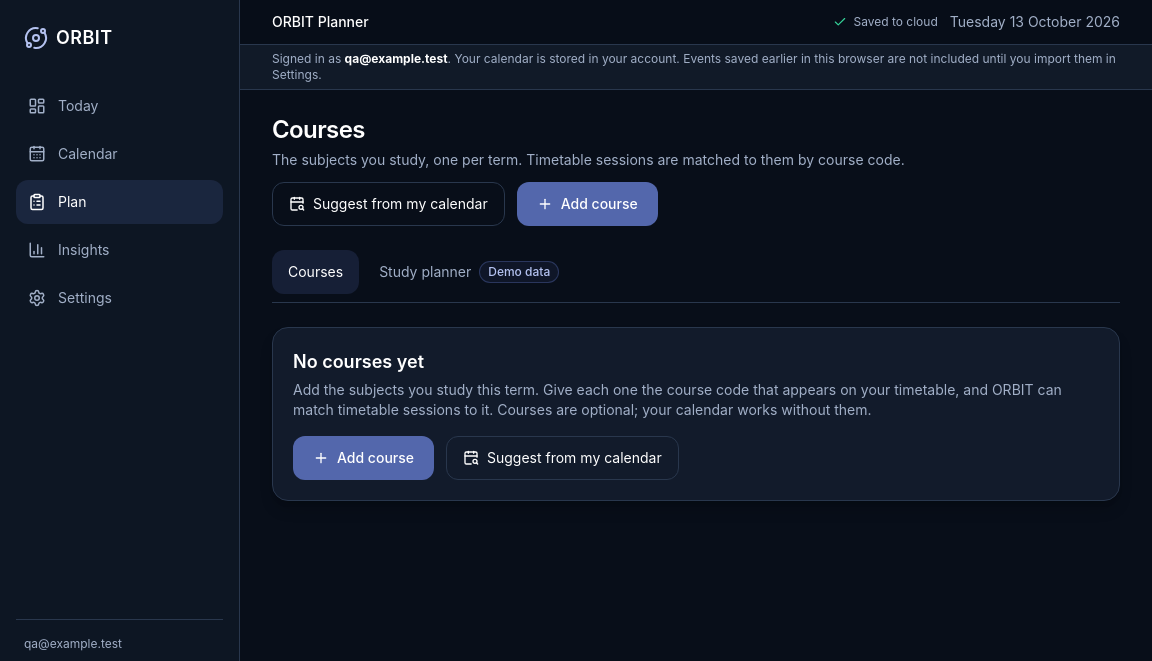
Test: suggest from my calendar › an unclear network outcome keeps the candidate, never claims success, and is recognised once the server shows it
expect the heading "Courses" is shown: met, box [272, 115, 365, 144]
Click the 1st button "Suggest from my calendar".
click(388, 204)  # box [272, 182, 505, 226]
(page scrolled)
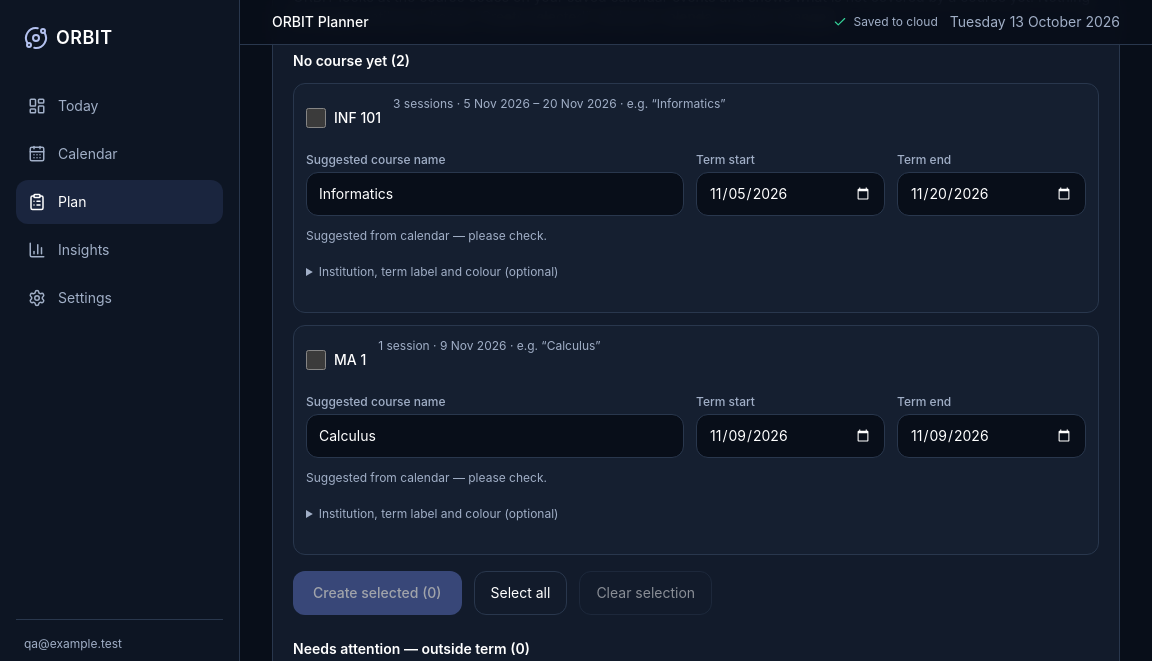
Click the checkbox named "Select MA 1".
click(316, 360)  # box [306, 350, 326, 370]
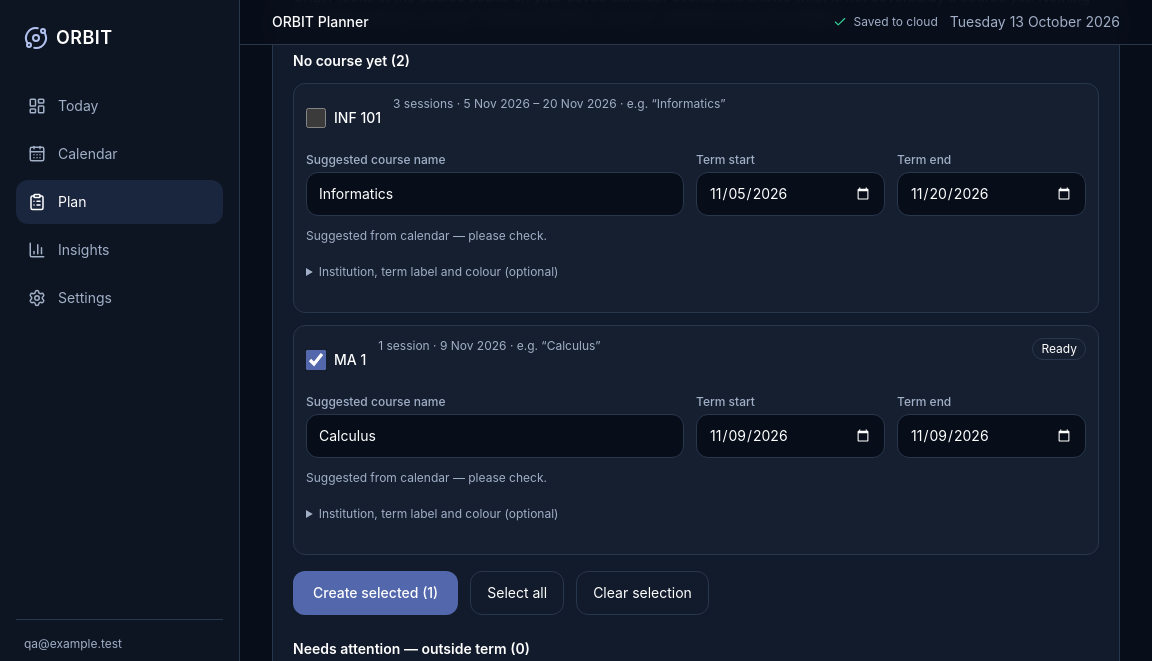
Click the button "Create selected (1)".
click(376, 593)  # box [293, 571, 458, 615]
(page scrolled)
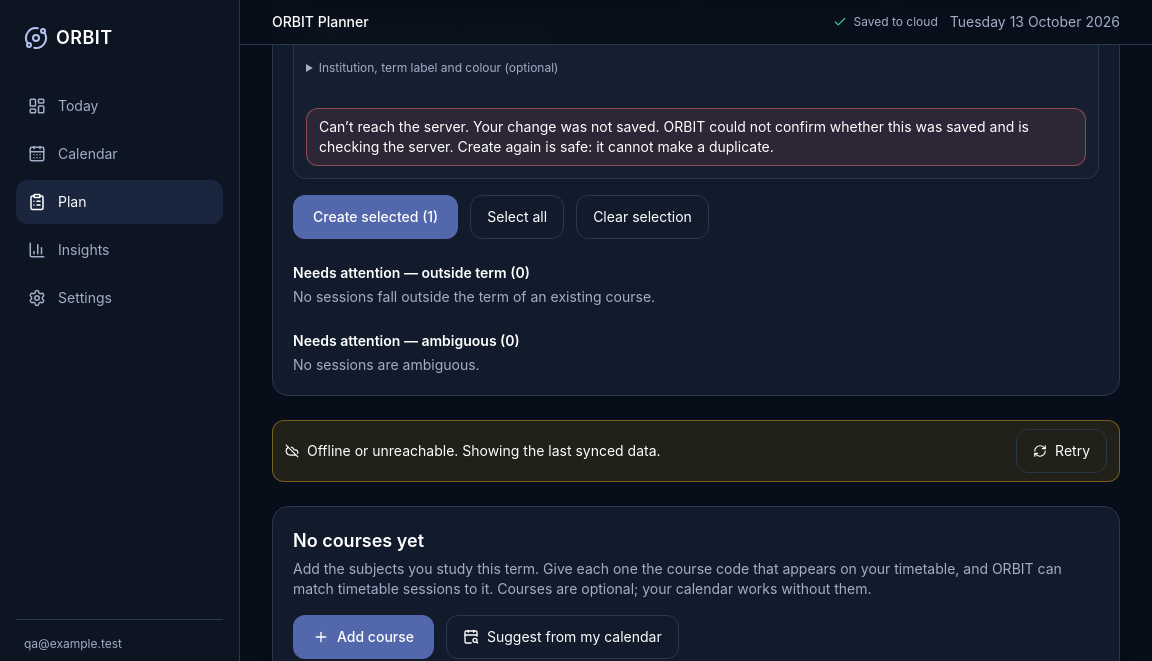
Click the button "Retry".
click(1062, 451)  # box [1016, 429, 1107, 473]
(page scrolled)
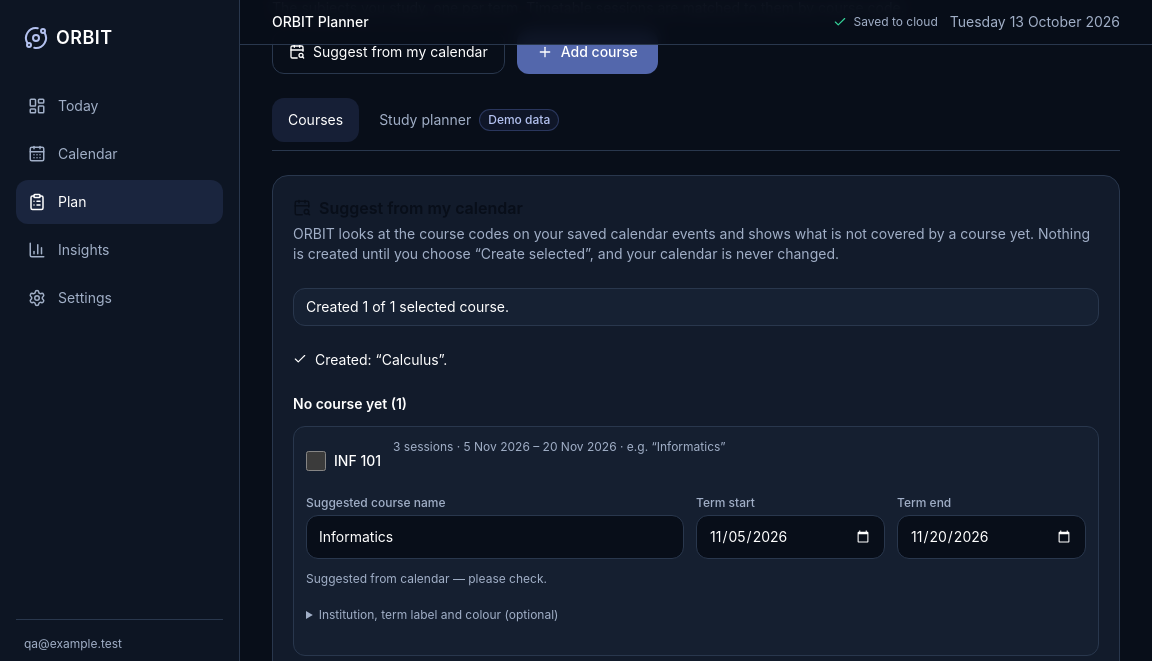
expect the message with test id "suggest-summary" reads "Created 1 of 1 selected course.": met, box [306, 298, 509, 315]
expect the message with test id "suggest-created" reads "Created: “Calculus”.": met, box [293, 351, 447, 368]
